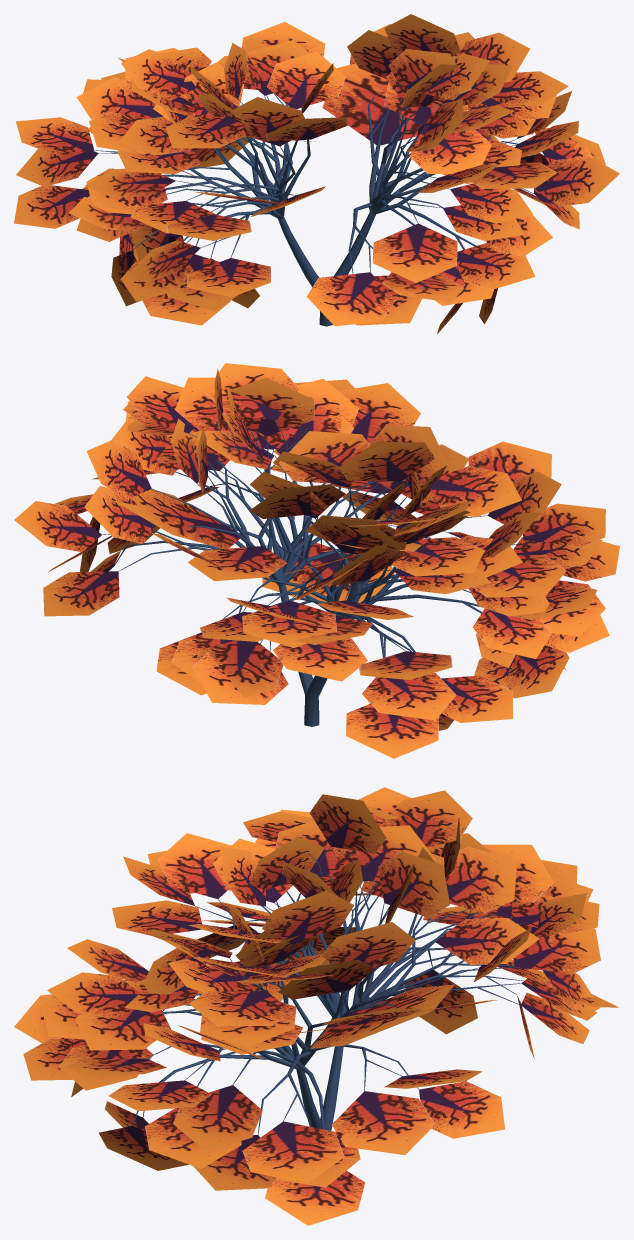
Rendered from Bush2.fbx.
3 renders of one model, top to bottom at view 1: azimuth 30°, elevation 25°; view 2: azimuth 150°, elevation 25°; view 3: azimuth 270°, elevation 25°, orthographic. The views are drawn at different scales.
Visible parts, largest first — view 1: leaves.003, tree.003; view 2: leaves.003, tree.003; view 3: leaves.003, tree.003.
Part boxes in pixels (x1,y1,x2,y2): leaves.003: [14, 14, 619, 333]; tree.003: [94, 88, 533, 326]; leaves.003: [14, 363, 619, 758]; tree.003: [102, 419, 516, 726]; leaves.003: [14, 787, 618, 1225]; tree.003: [132, 846, 523, 1134].
Bounding box in the file's own units: 354 × 187 × 312.
